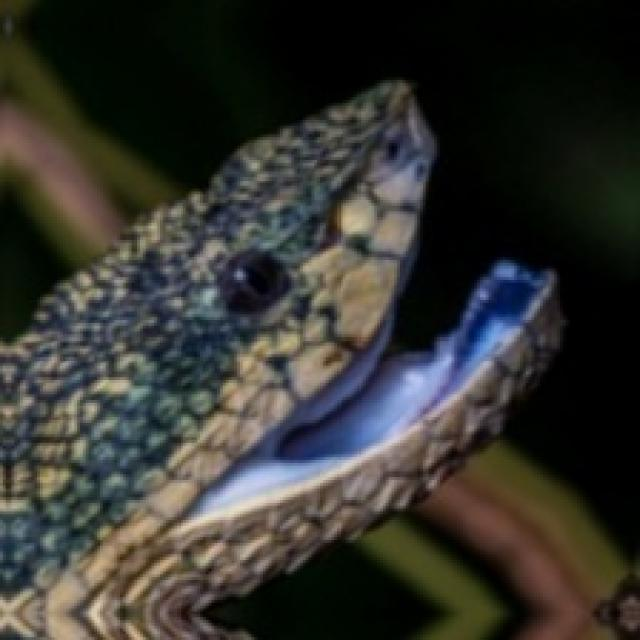north ph temple pitviper: (0, 80, 560, 637)
